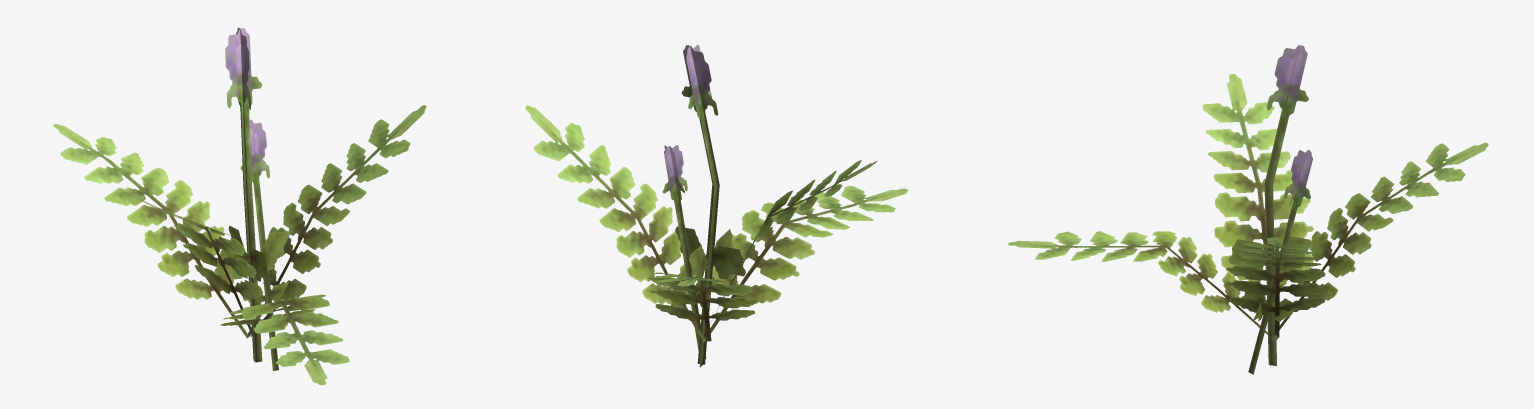
Rendered from OZ_04_sn_Grass02A.glb.
The picture shows the model from 3 angles, left to right: view 1: azimuth 30°, elevation 25°; view 2: azimuth 150°, elevation 25°; view 3: azimuth 270°, elevation 25°; orthographic projection. The views are drawn at different scales.
Parts seen in each view (by area): view 1: OM_04_sn_Grass02A; view 2: OM_04_sn_Grass02A; view 3: OM_04_sn_Grass02A.
Part boxes in pixels (x1,y1,x2,y2): OM_04_sn_Grass02A: (53,27,426,385); OM_04_sn_Grass02A: (525,44,908,367); OM_04_sn_Grass02A: (1008,45,1488,374).
Size of the model in its own units: 0.6962 by 0.6747 by 0.9508.
1 material, 1 textured.
